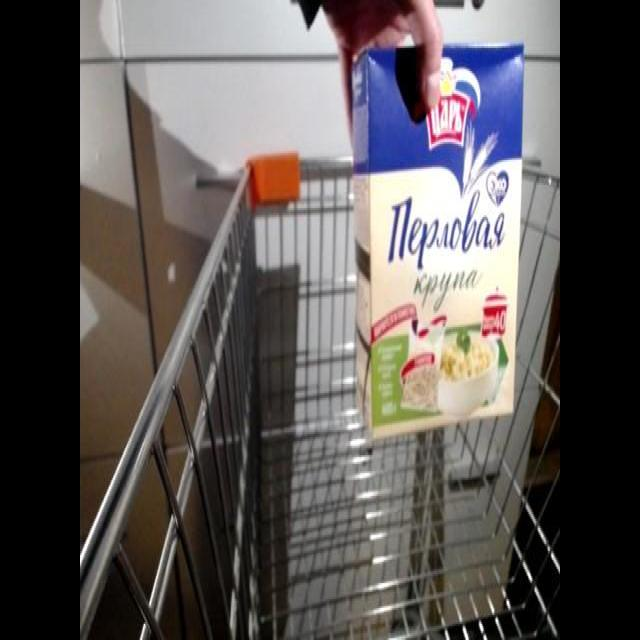Groats: (345, 36, 530, 444)
